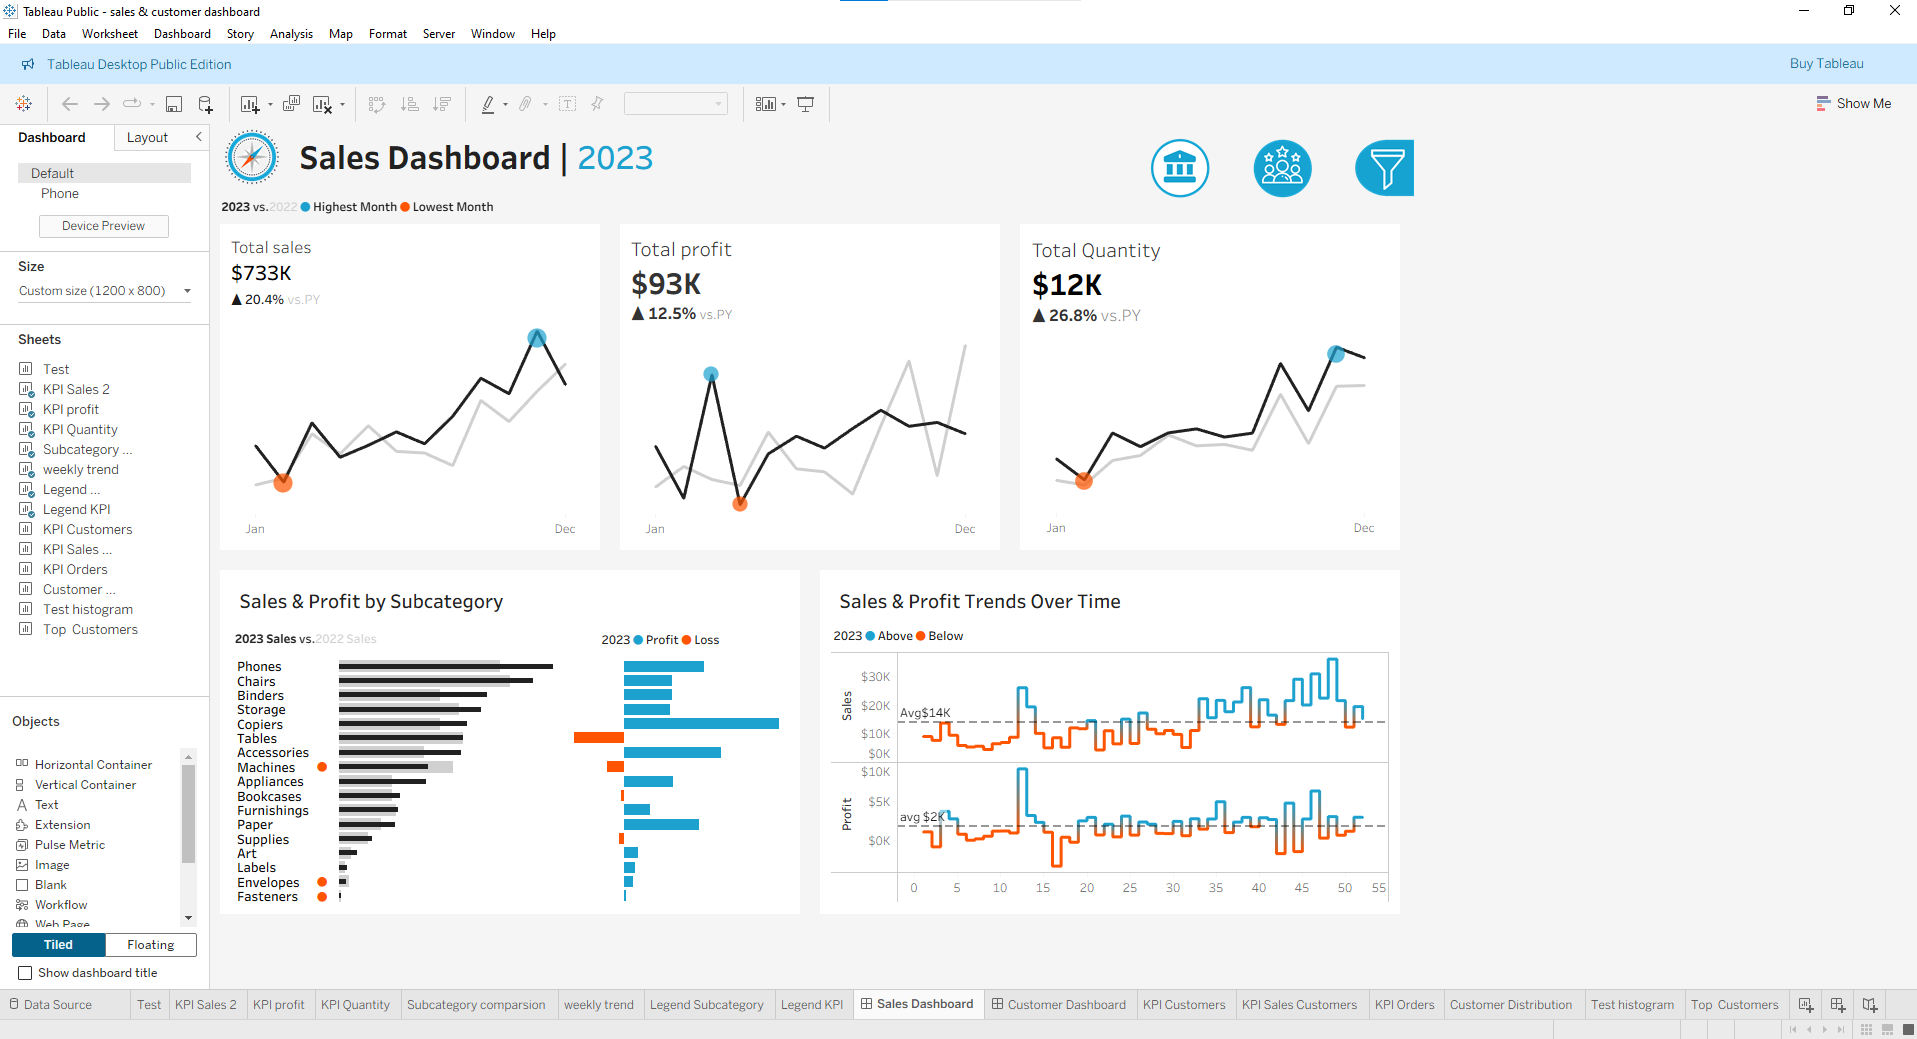

What the dashboard file says about the page in this screenshot:
{"tool":"tableau","page":{"name":"Sales Dashboard ","canvas":[1200,800],"ordinal":1},"visuals":[{"type":"image","param":"E:/Projects/Tableau project/Icons/Icon - Logo.png","box":[0,0,83,65]},{"type":"text","box":[83,0,1117,65]},{"type":"dashboard-object","box":[919,10,102,68]},{"type":"blank","box":[938,10,250,85]},{"type":"dashboard-object","box":[1021,10,102,68]},{"type":"worksheet","title":"Legend KPI","mark":"Automatic","box":[0,65,1200,35]},{"type":"text","box":[938,95,250,34]},{"type":"worksheet","title":"KPI Sales 2","mark":"Automatic","rows":["Calculation_1169651073921024"],"cols":["Order Date"],"box":[0,100,400,336]},{"type":"worksheet","title":"KPI profit","mark":"Automatic","rows":["Calculation_0373331303731200"],"cols":["Order Date"],"box":[400,100,400,336]},{"type":"worksheet","title":"KPI Quantity","mark":"Automatic","rows":["Calculation_0515993309032448"],"cols":["Order Date"],"box":[800,100,400,336]},{"type":"parameter","param":"[Parameters].[Parameter 1]","box":[938,129,250,52]},{"type":"text","box":[938,181,250,29]},{"type":"filter","title":"KPI profit","param":"[federated.082fdyg0o6ct4d0zjkqqm063pek3].[none:Category:nk]","box":[938,210,250,52]},{"type":"filter","title":"KPI profit","param":"[federated.082fdyg0o6ct4d0zjkqqm063pek3].[none:Sub-Category:nk]","box":[938,262,250,52]},{"type":"blank","box":[938,314,250,51]},{"type":"text","box":[938,365,250,29]},{"type":"filter","title":"KPI profit","param":"[federated.082fdyg0o6ct4d0zjkqqm063pek3].[none:Region:nk]","box":[938,394,250,52]},{"type":"filter","title":"KPI profit","param":"[federated.082fdyg0o6ct4d0zjkqqm063pek3].[none:State:nk]","box":[938,446,250,52]},{"type":"text","box":[17,453,566,46]},{"type":"text","box":[617,453,566,46]},{"type":"filter","title":"KPI profit","param":"[federated.082fdyg0o6ct4d0zjkqqm063pek3].[none:City:nk]","box":[938,498,250,52]},{"type":"worksheet","title":"Legend Subcategory","mark":"Automatic","box":[17,499,368,32]},{"type":"text","box":[385,499,198,32]},{"type":"text","box":[617,499,566,25]},{"type":"worksheet","title":"weekly trend","mark":"Automatic","rows":["Calculation_0949473549348866","Calculation_1162780281483264"],"cols":["Order Date"],"box":[617,524,566,259]},{"type":"worksheet","title":"Subcategory comparsion","mark":"Bar","rows":["Sub-Category","Calculation_0588836366569472"],"cols":["CY Sales  (copy)_0949473549713411","Calculation_0949473549348866","Calculation_1162780281483264"],"box":[17,531,566,251.9]}]}

Visuals, with their boxes on the page's 1200x800 design canvas (x1, y1, x2, y2). These are canvas units, not pixel positions in the 1917x1039 screenshot, which may show the page scaled, cropped or inside an application window:
image: left=0, top=0, right=83, bottom=65
text: left=83, top=0, right=1200, bottom=65
dashboard-object: left=919, top=10, right=1021, bottom=78
blank: left=938, top=10, right=1188, bottom=95
dashboard-object: left=1021, top=10, right=1123, bottom=78
"Legend KPI" worksheet: left=0, top=65, right=1200, bottom=100
text: left=938, top=95, right=1188, bottom=129
"KPI Sales 2" worksheet: left=0, top=100, right=400, bottom=436
"KPI profit" worksheet: left=400, top=100, right=800, bottom=436
"KPI Quantity" worksheet: left=800, top=100, right=1200, bottom=436
parameter: left=938, top=129, right=1188, bottom=181
text: left=938, top=181, right=1188, bottom=210
"KPI profit" filter: left=938, top=210, right=1188, bottom=262
"KPI profit" filter: left=938, top=262, right=1188, bottom=314
blank: left=938, top=314, right=1188, bottom=365
text: left=938, top=365, right=1188, bottom=394
"KPI profit" filter: left=938, top=394, right=1188, bottom=446
"KPI profit" filter: left=938, top=446, right=1188, bottom=498
text: left=17, top=453, right=583, bottom=499
text: left=617, top=453, right=1183, bottom=499
"KPI profit" filter: left=938, top=498, right=1188, bottom=550
"Legend Subcategory" worksheet: left=17, top=499, right=385, bottom=531
text: left=385, top=499, right=583, bottom=531
text: left=617, top=499, right=1183, bottom=524
"weekly trend" worksheet: left=617, top=524, right=1183, bottom=783
"Subcategory comparsion" worksheet (Bar marks): left=17, top=531, right=583, bottom=783
